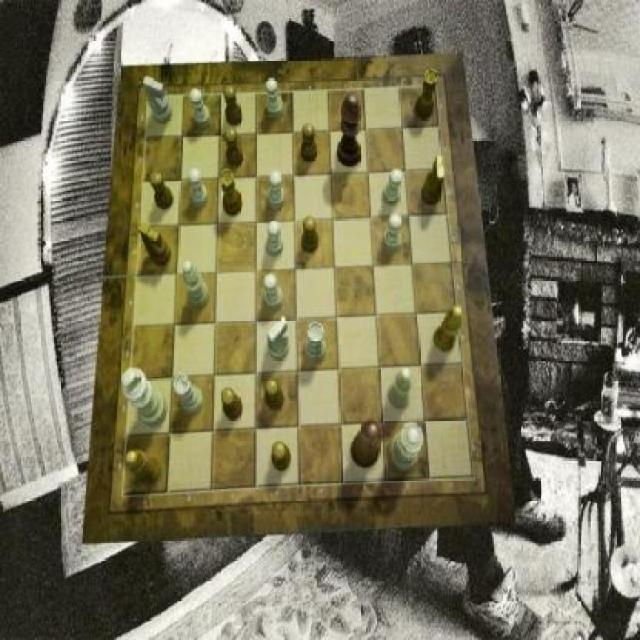bishop: (126, 450, 162, 486), (434, 306, 461, 352)
black-bishop: (338, 92, 362, 167)
black-king: (138, 223, 172, 267), (422, 156, 446, 207)
black-knight: (150, 171, 174, 209), (224, 128, 243, 168), (225, 85, 242, 126), (222, 388, 242, 422), (264, 377, 284, 411), (300, 123, 317, 162), (303, 217, 320, 253), (272, 442, 292, 472)
black-pawn: (351, 418, 384, 469)
black-queen: (416, 69, 438, 120), (220, 169, 243, 217)
black-rook: (183, 260, 209, 308), (388, 368, 412, 410)
white-bishop: (121, 368, 168, 428)
white-king: (143, 77, 173, 125), (266, 316, 289, 360)
white-knight: (191, 88, 211, 128), (188, 169, 208, 208), (264, 272, 284, 310), (383, 170, 403, 206), (266, 80, 284, 120), (383, 214, 402, 251), (266, 220, 284, 258), (268, 171, 284, 209)
white-pawn: (389, 422, 425, 471)
white-queen: (172, 374, 202, 414), (305, 323, 327, 363)
